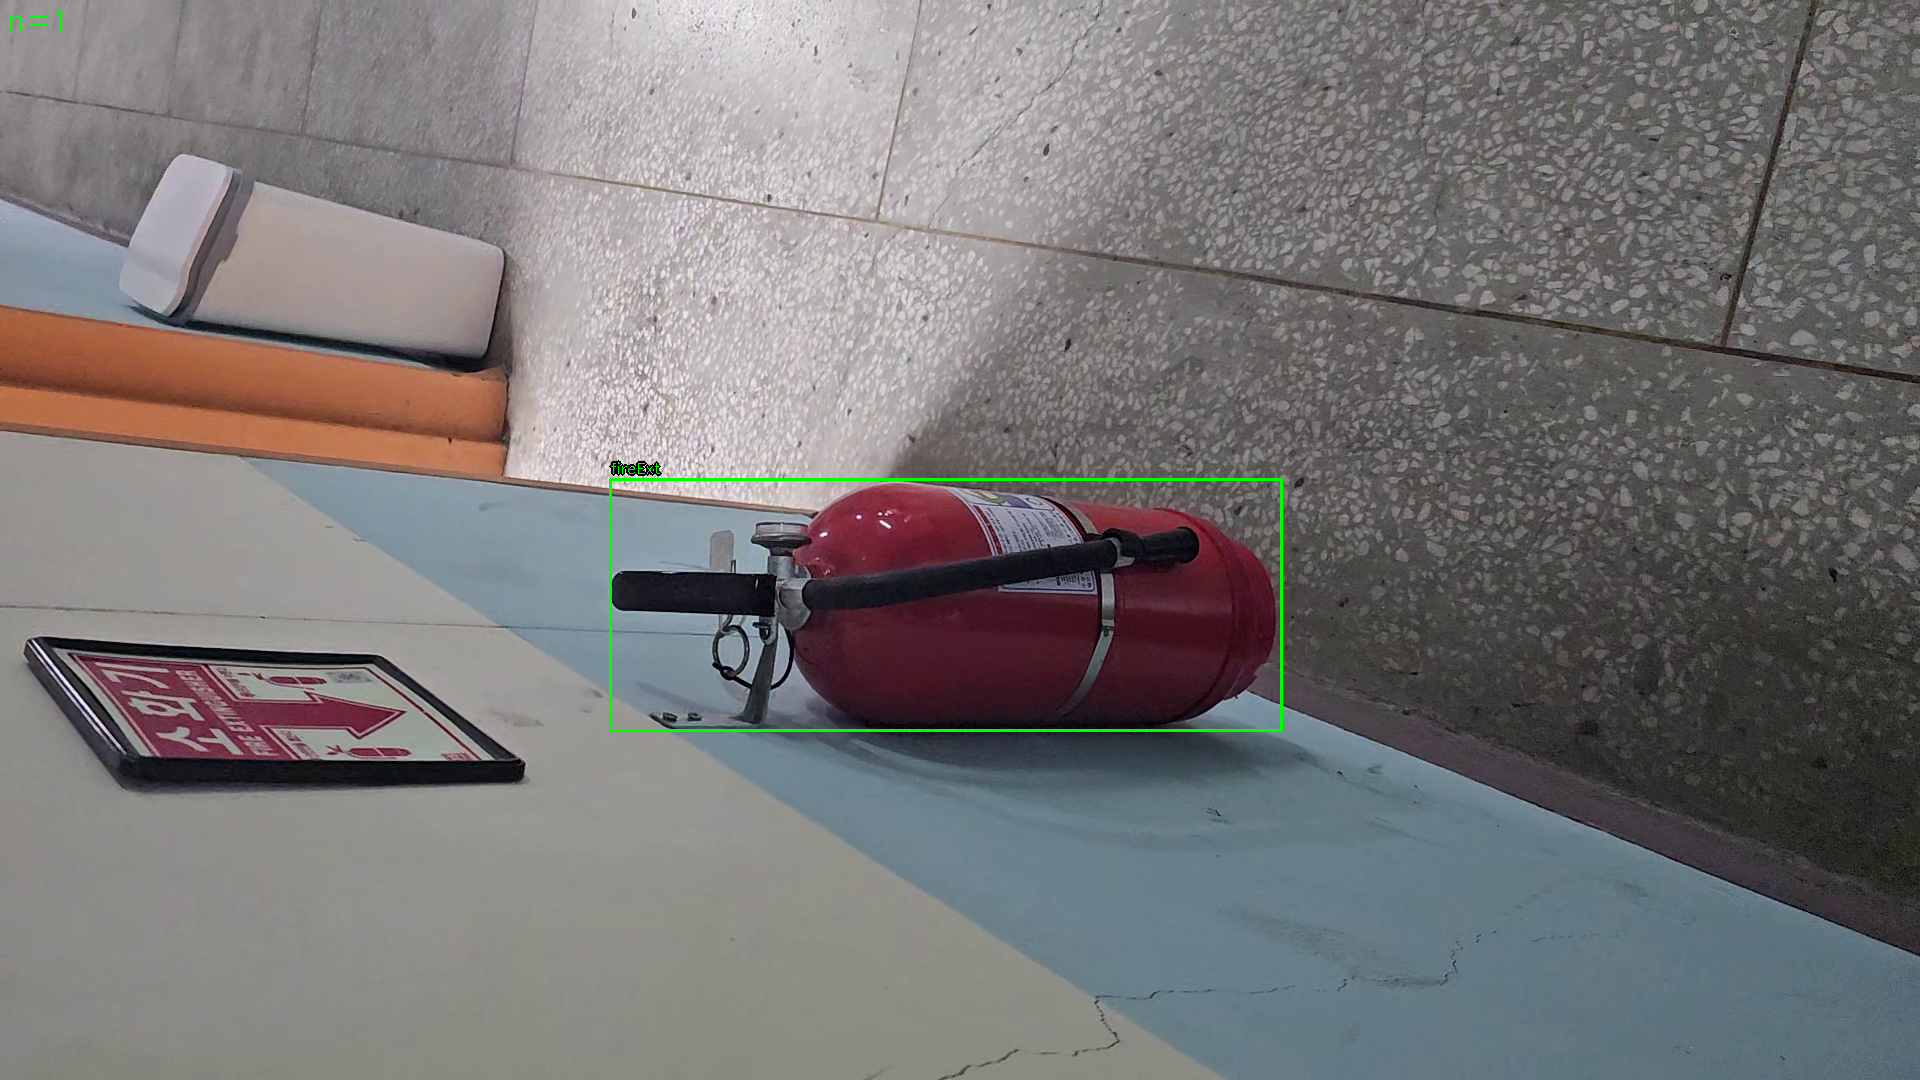lane: (611, 479, 1282, 731)
